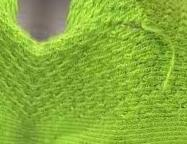snag: (137, 17, 176, 94)
